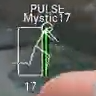hacks_1: (10, 4, 72, 91)
